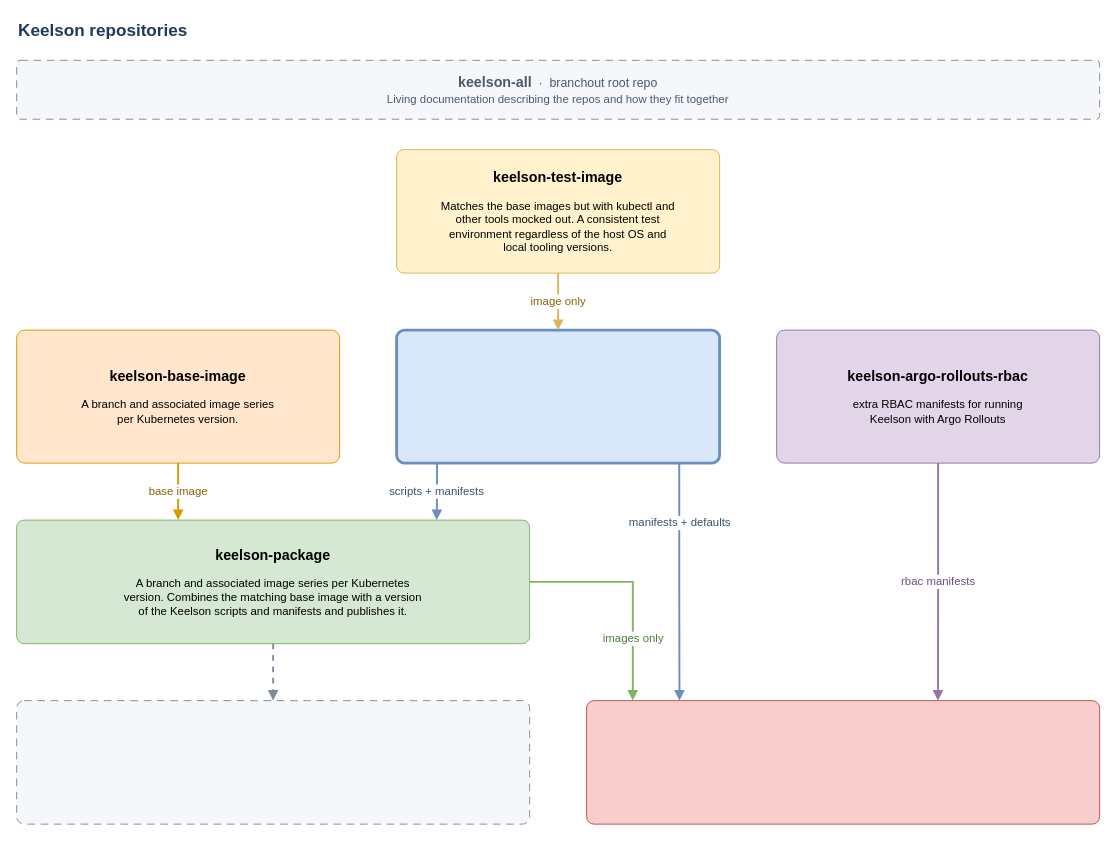
The diagram is 1116 pixels wide and 841 high, and some of its shapes have lost their labels. Each missing label, with the centre of its shape:
Kaptain One line inclusion into a product or run-platform-* meta environment.: the point at 273,762
keelson scripts · manifests · default values bundled for reuse · docs: the point at 558,396
keelson-helm-chart manifests → Helm templates defaults → values.yaml: the point at 843,762
